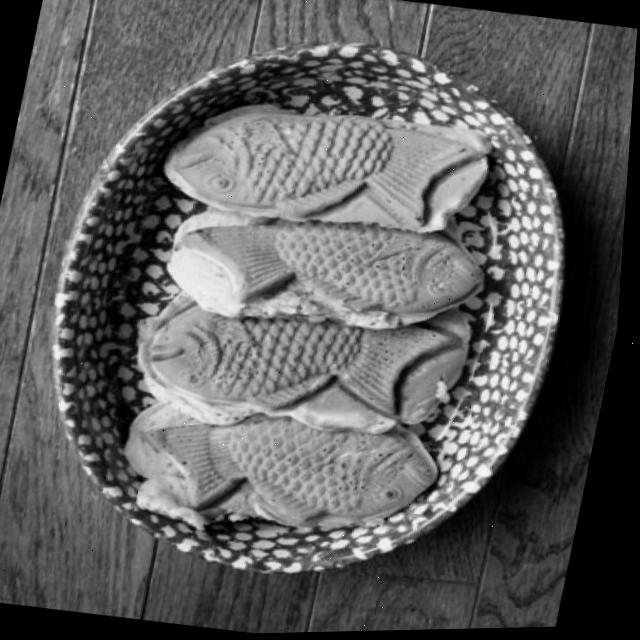熟制海鲜: (100, 91, 529, 555)
